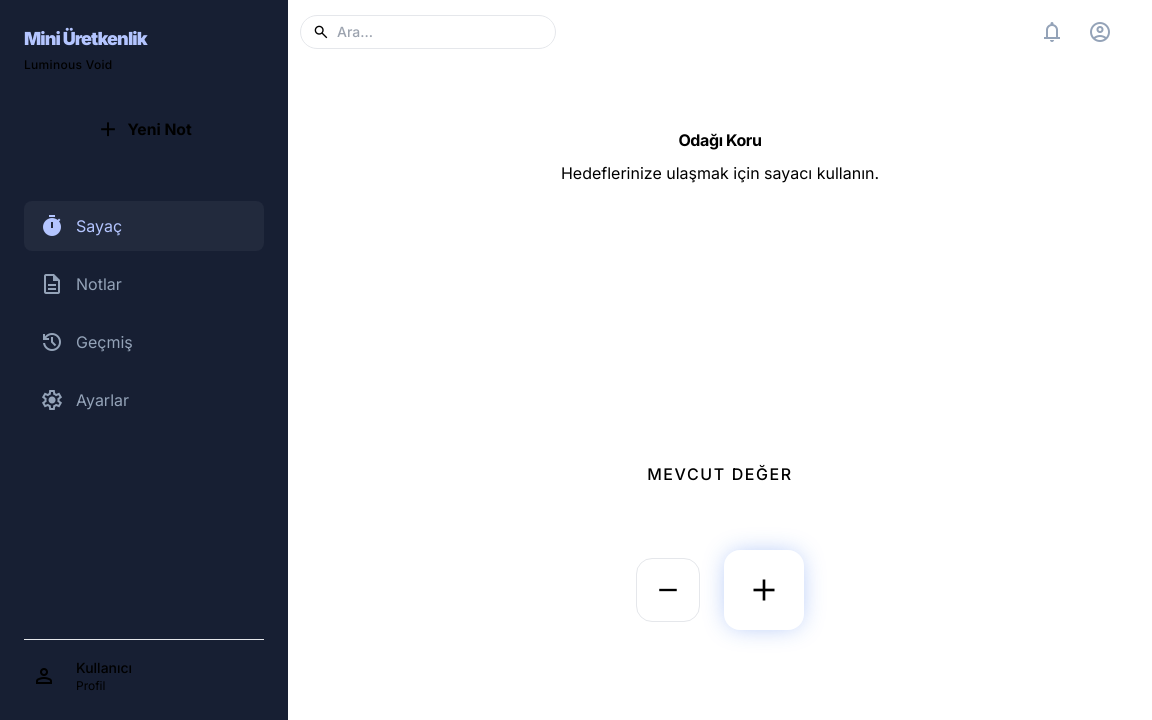
Test: SayacEkrani › işlem yapıldığında history widget güncellenir
The width and height of the screenshot is (1152, 720).
Click the button named "Artır" at (764, 590), box [724,550,804,630]
(page scrolled)
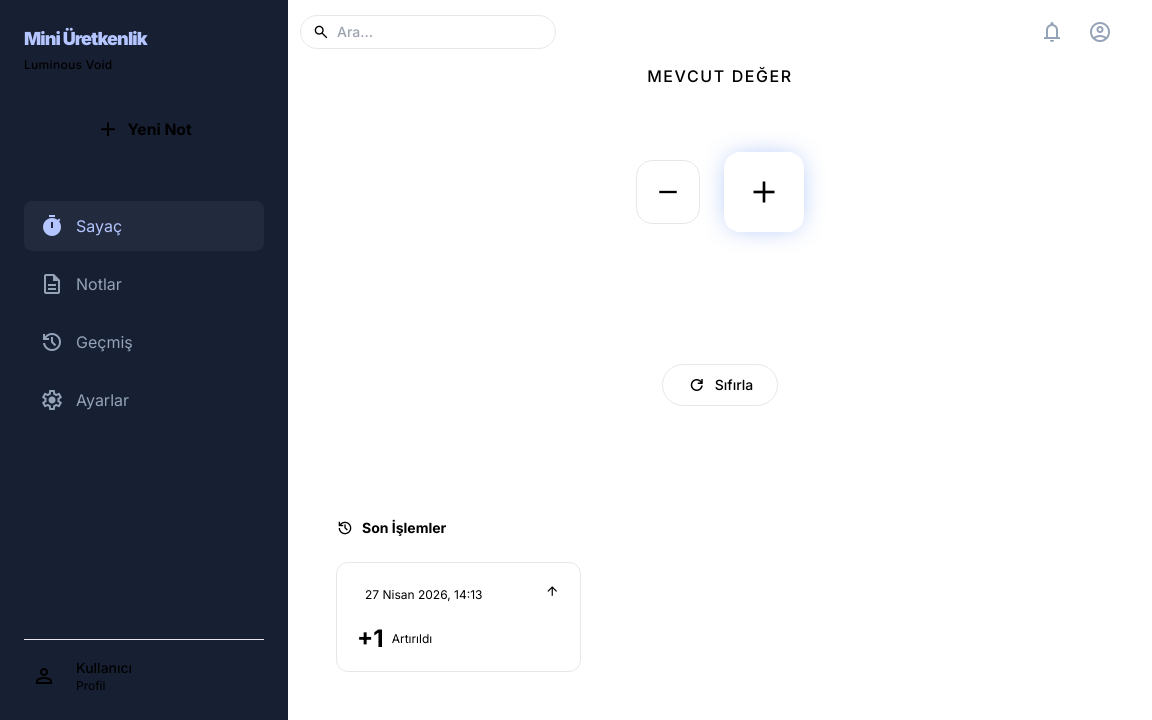
Expected: the text "Artırıldı" is shown, [392,631,432,647]
Expected: the text "+1" is shown, [357,627,384,651]
